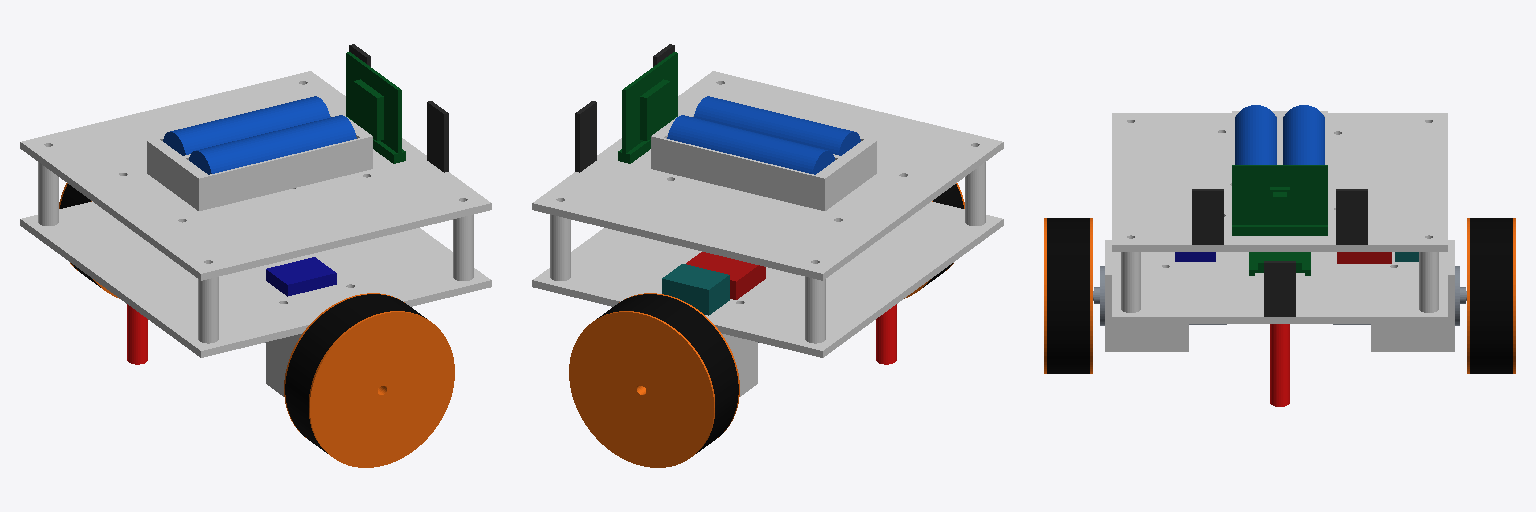
robot.urdf — robot_2ruote:
<?xml version="1.0"?>
<!-- generato da gen_urdf.py da robot_params.json (varD 2026-10-23) -->
<robot name="robot_2ruote">
  <link name="base_link">
    <inertial>
      <origin xyz="0.003645 -0.000017 0.027834"/>
      <mass value="0.39413"/>
      <inertia ixx="9.033401e-04" ixy="-2.780611e-08" ixz="-4.759818e-05" iyy="5.547175e-04" iyz="-8.043051e-07" izz="8.051148e-04"/>
    </inertial>
    <collision name="piastra_bassa">
      <origin xyz="0.00000 0.00000 0.01900"/>
      <geometry><box size="0.13000 0.14000 0.00300"/></geometry>
    </collision>
    <collision name="piastra_alta">
      <origin xyz="0.00000 0.00000 0.05200"/>
      <geometry><box size="0.13000 0.14000 0.00300"/></geometry>
    </collision>
    <collision name="piede_anteriore">
      <origin xyz="0.05300 0.00000 -0.00350"/>
      <geometry><box size="0.00800 0.00800 0.04200"/></geometry>
    </collision>
    <collision name="piede_posteriore">
      <origin xyz="-0.05300 0.00000 0.00150"/>
      <geometry><box size="0.00800 0.00800 0.03200"/></geometry>
    </collision>
    <visual name="appoggio_anteriore">
      <origin xyz="0 0.00000 -0.03250"/>
      <geometry><mesh filename="meshes/appoggio_anteriore.stl" scale="0.001 0.001 0.001"/></geometry>
      <material name="piedi"><color rgba="0.95 0.1 0.1 1"/></material>
    </visual>
    <visual name="appoggio_posteriore">
      <origin xyz="0 0.00000 -0.03250"/>
      <geometry><mesh filename="meshes/appoggio_posteriore.stl" scale="0.001 0.001 0.001"/></geometry>
      <material name="piedi"><color rgba="0.95 0.1 0.1 1"/></material>
    </visual>
    <visual name="cam_modulo_WROOM">
      <origin xyz="0 0.00000 -0.03250"/>
      <geometry><mesh filename="meshes/cam_modulo_WROOM.stl" scale="0.001 0.001 0.001"/></geometry>
      <material name="pcb"><color rgba="0.05 0.35 0.15 1"/></material>
    </visual>
    <visual name="cam_obiettivo">
      <origin xyz="0 0.00000 -0.03250"/>
      <geometry><mesh filename="meshes/cam_obiettivo.stl" scale="0.001 0.001 0.001"/></geometry>
      <material name="pcb"><color rgba="0.05 0.35 0.15 1"/></material>
    </visual>
    <visual name="cam_obiettivo_base">
      <origin xyz="0 0.00000 -0.03250"/>
      <geometry><mesh filename="meshes/cam_obiettivo_base.stl" scale="0.001 0.001 0.001"/></geometry>
      <material name="pcb"><color rgba="0.05 0.35 0.15 1"/></material>
    </visual>
    <visual name="cam_pcb">
      <origin xyz="0 0.00000 -0.03250"/>
      <geometry><mesh filename="meshes/cam_pcb.stl" scale="0.001 0.001 0.001"/></geometry>
      <material name="pcb"><color rgba="0.05 0.35 0.15 1"/></material>
    </visual>
    <visual name="cam_supporto">
      <origin xyz="0 0.00000 -0.03250"/>
      <geometry><mesh filename="meshes/cam_supporto.stl" scale="0.001 0.001 0.001"/></geometry>
      <material name="pcb"><color rgba="0.05 0.35 0.15 1"/></material>
    </visual>
    <visual name="cella_18650_1">
      <origin xyz="0 0.00000 -0.03250"/>
      <geometry><mesh filename="meshes/cella_18650_1.stl" scale="0.001 0.001 0.001"/></geometry>
      <material name="batteria"><color rgba="0.1 0.35 0.75 1"/></material>
    </visual>
    <visual name="cella_18650_2">
      <origin xyz="0 0.00000 -0.03250"/>
      <geometry><mesh filename="meshes/cella_18650_2.stl" scale="0.001 0.001 0.001"/></geometry>
      <material name="batteria"><color rgba="0.1 0.35 0.75 1"/></material>
    </visual>
    <visual name="colonnina_1">
      <origin xyz="0 0.00000 -0.03250"/>
      <geometry><mesh filename="meshes/colonnina_1.stl" scale="0.001 0.001 0.001"/></geometry>
      <material name="pla"><color rgba="0.85 0.85 0.85 1"/></material>
    </visual>
    <visual name="colonnina_1_1">
      <origin xyz="0 0.00000 -0.03250"/>
      <geometry><mesh filename="meshes/colonnina_1_1.stl" scale="0.001 0.001 0.001"/></geometry>
      <material name="pla"><color rgba="0.85 0.85 0.85 1"/></material>
    </visual>
    <visual name="colonnina_1_1_1">
      <origin xyz="0 0.00000 -0.03250"/>
      <geometry><mesh filename="meshes/colonnina_1_1_1.stl" scale="0.001 0.001 0.001"/></geometry>
      <material name="pla"><color rgba="0.85 0.85 0.85 1"/></material>
    </visual>
    <visual name="colonnina_1_2">
      <origin xyz="0 0.00000 -0.03250"/>
      <geometry><mesh filename="meshes/colonnina_1_2.stl" scale="0.001 0.001 0.001"/></geometry>
      <material name="pla"><color rgba="0.85 0.85 0.85 1"/></material>
    </visual>
    <visual name="driver_TB6612">
      <origin xyz="0 0.00000 -0.03250"/>
      <geometry><mesh filename="meshes/driver_TB6612.stl" scale="0.001 0.001 0.001"/></geometry>
      <material name="pcb"><color rgba="0.7 0.1 0.1 1"/></material>
    </visual>
    <visual name="esp32_header_dx">
      <origin xyz="0 0.00000 -0.03250"/>
      <geometry><mesh filename="meshes/esp32_header_dx.stl" scale="0.001 0.001 0.001"/></geometry>
      <material name="pcb"><color rgba="0.05 0.35 0.15 1"/></material>
    </visual>
    <visual name="esp32_header_sx">
      <origin xyz="0 0.00000 -0.03250"/>
      <geometry><mesh filename="meshes/esp32_header_sx.stl" scale="0.001 0.001 0.001"/></geometry>
      <material name="pcb"><color rgba="0.05 0.35 0.15 1"/></material>
    </visual>
    <visual name="esp32_modulo_WROOM">
      <origin xyz="0 0.00000 -0.03250"/>
      <geometry><mesh filename="meshes/esp32_modulo_WROOM.stl" scale="0.001 0.001 0.001"/></geometry>
      <material name="pcb"><color rgba="0.05 0.35 0.15 1"/></material>
    </visual>
    <visual name="esp32_pcb">
      <origin xyz="0 0.00000 -0.03250"/>
      <geometry><mesh filename="meshes/esp32_pcb.stl" scale="0.001 0.001 0.001"/></geometry>
      <material name="pcb"><color rgba="0.05 0.35 0.15 1"/></material>
    </visual>
    <visual name="esp32_supporto_1">
      <origin xyz="0 0.00000 -0.03250"/>
      <geometry><mesh filename="meshes/esp32_supporto_1.stl" scale="0.001 0.001 0.001"/></geometry>
      <material name="pcb"><color rgba="0.05 0.35 0.15 1"/></material>
    </visual>
    <visual name="esp32_supporto_2">
      <origin xyz="0 0.00000 -0.03250"/>
      <geometry><mesh filename="meshes/esp32_supporto_2.stl" scale="0.001 0.001 0.001"/></geometry>
      <material name="pcb"><color rgba="0.05 0.35 0.15 1"/></material>
    </visual>
    <visual name="esp32_usb_1">
      <origin xyz="0 0.00000 -0.03250"/>
      <geometry><mesh filename="meshes/esp32_usb_1.stl" scale="0.001 0.001 0.001"/></geometry>
      <material name="pcb"><color rgba="0.05 0.35 0.15 1"/></material>
    </visual>
    <visual name="esp32_usb_2">
      <origin xyz="0 0.00000 -0.03250"/>
      <geometry><mesh filename="meshes/esp32_usb_2.stl" scale="0.001 0.001 0.001"/></geometry>
      <material name="pcb"><color rgba="0.05 0.35 0.15 1"/></material>
    </visual>
    <visual name="IMU_MPU6050">
      <origin xyz="0 0.00000 -0.03250"/>
      <geometry><mesh filename="meshes/IMU_MPU6050.stl" scale="0.001 0.001 0.001"/></geometry>
      <material name="pcb"><color rgba="0.1 0.4 0.4 1"/></material>
    </visual>
    <visual name="motore_dx">
      <origin xyz="0 0.00000 -0.03250"/>
      <geometry><mesh filename="meshes/motore_dx.stl" scale="0.001 0.001 0.001"/></geometry>
      <material name="metallo"><color rgba="0.55 0.58 0.62 1"/></material>
    </visual>
    <visual name="motore_sx">
      <origin xyz="0 0.00000 -0.03250"/>
      <geometry><mesh filename="meshes/motore_sx.stl" scale="0.001 0.001 0.001"/></geometry>
      <material name="metallo"><color rgba="0.55 0.58 0.62 1"/></material>
    </visual>
    <visual name="piastra_alta">
      <origin xyz="0 0.00000 -0.03250"/>
      <geometry><mesh filename="meshes/piastra_alta.stl" scale="0.001 0.001 0.001"/></geometry>
      <material name="pla"><color rgba="0.85 0.85 0.85 1"/></material>
    </visual>
    <visual name="piastra_bassa">
      <origin xyz="0 0.00000 -0.03250"/>
      <geometry><mesh filename="meshes/piastra_bassa.stl" scale="0.001 0.001 0.001"/></geometry>
      <material name="pla"><color rgba="0.85 0.85 0.85 1"/></material>
    </visual>
    <visual name="portabatterie">
      <origin xyz="0 0.00000 -0.03250"/>
      <geometry><mesh filename="meshes/portabatterie.stl" scale="0.001 0.001 0.001"/></geometry>
      <material name="pla"><color rgba="0.85 0.85 0.85 1"/></material>
    </visual>
    <visual name="staffa_alta_dx">
      <origin xyz="0 0.00000 -0.03250"/>
      <geometry><mesh filename="meshes/staffa_alta_dx.stl" scale="0.001 0.001 0.001"/></geometry>
      <material name="pla"><color rgba="0.85 0.85 0.85 1"/></material>
    </visual>
    <visual name="staffa_alta_sx">
      <origin xyz="0 0.00000 -0.03250"/>
      <geometry><mesh filename="meshes/staffa_alta_sx.stl" scale="0.001 0.001 0.001"/></geometry>
      <material name="pla"><color rgba="0.85 0.85 0.85 1"/></material>
    </visual>
    <visual name="staffa_base_dx">
      <origin xyz="0 0.00000 -0.03250"/>
      <geometry><mesh filename="meshes/staffa_base_dx.stl" scale="0.001 0.001 0.001"/></geometry>
      <material name="pla"><color rgba="0.85 0.85 0.85 1"/></material>
    </visual>
    <visual name="staffa_base_sx">
      <origin xyz="0 0.00000 -0.03250"/>
      <geometry><mesh filename="meshes/staffa_base_sx.stl" scale="0.001 0.001 0.001"/></geometry>
      <material name="pla"><color rgba="0.85 0.85 0.85 1"/></material>
    </visual>
    <visual name="step_down_5V">
      <origin xyz="0 0.00000 -0.03250"/>
      <geometry><mesh filename="meshes/step_down_5V.stl" scale="0.001 0.001 0.001"/></geometry>
      <material name="pcb"><color rgba="0.1 0.1 0.6 1"/></material>
    </visual>
    <visual name="ToF_centro">
      <origin xyz="0 0.00000 -0.03250"/>
      <geometry><mesh filename="meshes/ToF_centro.stl" scale="0.001 0.001 0.001"/></geometry>
      <material name="tof"><color rgba="0.2 0.2 0.2 1"/></material>
    </visual>
    <visual name="ToF_dx">
      <origin xyz="0 0.00000 -0.03250"/>
      <geometry><mesh filename="meshes/ToF_dx.stl" scale="0.001 0.001 0.001"/></geometry>
      <material name="tof"><color rgba="0.2 0.2 0.2 1"/></material>
    </visual>
    <visual name="ToF_sx">
      <origin xyz="0 0.00000 -0.03250"/>
      <geometry><mesh filename="meshes/ToF_sx.stl" scale="0.001 0.001 0.001"/></geometry>
      <material name="tof"><color rgba="0.2 0.2 0.2 1"/></material>
    </visual>
  </link>
  <link name="ruota_sx">
    <inertial>
      <origin xyz="0 0 0"/>
      <mass value="0.04117"/>
      <inertia ixx="1.264878e-05" ixy="6.863509e-18" ixz="8.244197e-20" iyy="2.257192e-05" iyz="2.710540e-20" izz="1.264875e-05"/>
    </inertial>
    <collision>
      <origin xyz="0 0 0" rpy="1.5707963 0 0"/>
      <geometry><cylinder radius="0.0325" length="0.02"/></geometry>
    </collision>
    <visual name="gomma_sx">
      <origin xyz="0 -0.08800 -0.03250"/>
      <geometry><mesh filename="meshes/gomma_sx.stl" scale="0.001 0.001 0.001"/></geometry>
      <material name="gomma"><color rgba="0.08 0.08 0.08 1"/></material>
    </visual>
    <visual name="ruota_sx">
      <origin xyz="0 -0.08800 -0.03250"/>
      <geometry><mesh filename="meshes/ruota_sx.stl" scale="0.001 0.001 0.001"/></geometry>
      <material name="ruota"><color rgba="0.95 0.45 0.1 1"/></material>
    </visual>
  </link>
  <joint name="giunto_ruota_sx" type="continuous">
    <parent link="base_link"/>
    <child link="ruota_sx"/>
    <origin xyz="0 0.08800 0"/>
    <axis xyz="0 1 0"/>
    <limit effort="1.0" velocity="60.0"/>
  </joint>
  <link name="ruota_dx">
    <inertial>
      <origin xyz="0 0 0"/>
      <mass value="0.04117"/>
      <inertia ixx="1.264878e-05" ixy="6.863509e-18" ixz="8.244197e-20" iyy="2.257192e-05" iyz="2.710540e-20" izz="1.264875e-05"/>
    </inertial>
    <collision>
      <origin xyz="0 0 0" rpy="1.5707963 0 0"/>
      <geometry><cylinder radius="0.0325" length="0.02"/></geometry>
    </collision>
    <visual name="gomma_dx">
      <origin xyz="0 0.08800 -0.03250"/>
      <geometry><mesh filename="meshes/gomma_dx.stl" scale="0.001 0.001 0.001"/></geometry>
      <material name="gomma"><color rgba="0.08 0.08 0.08 1"/></material>
    </visual>
    <visual name="ruota_dx">
      <origin xyz="0 0.08800 -0.03250"/>
      <geometry><mesh filename="meshes/ruota_dx.stl" scale="0.001 0.001 0.001"/></geometry>
      <material name="ruota"><color rgba="0.95 0.45 0.1 1"/></material>
    </visual>
  </link>
  <joint name="giunto_ruota_dx" type="continuous">
    <parent link="base_link"/>
    <child link="ruota_dx"/>
    <origin xyz="0 -0.08800 0"/>
    <axis xyz="0 1 0"/>
    <limit effort="1.0" velocity="60.0"/>
  </joint>
</robot>

--- Render facts (derived) ---
3 views of the same robot in one strip: view 1: azimuth 30°, elevation 25°; view 2: azimuth 150°, elevation 25°; view 3: azimuth 270°, elevation 25° (orthographic).
Model robot_2ruote with 3 links and 2 joints (2 continuous), rooted at base_link, posed every joint at zero.
Links seen in each view (by area): view 1: base_link, ruota_dx, ruota_sx; view 2: base_link, ruota_sx, ruota_dx; view 3: base_link, ruota_sx, ruota_dx.
Link boxes in pixels (x1=…): base_link: x1=20, y1=44, x2=491, y2=396; ruota_dx: x1=284, y1=293, x2=454, y2=467; ruota_sx: x1=59, y1=183, x2=119, y2=298; base_link: x1=532, y1=44, x2=1003, y2=396; ruota_sx: x1=569, y1=293, x2=739, y2=467; ruota_dx: x1=904, y1=183, x2=964, y2=298; base_link: x1=1093, y1=105, x2=1466, y2=406; ruota_sx: x1=1467, y1=218, x2=1515, y2=373; ruota_dx: x1=1044, y1=218, x2=1092, y2=373.
Bounding box of the posed robot: 0.13 × 0.196 × 0.117 m (x, y, z).
40 mesh visuals loaded from 40 distinct referenced files (40 binary STL).
